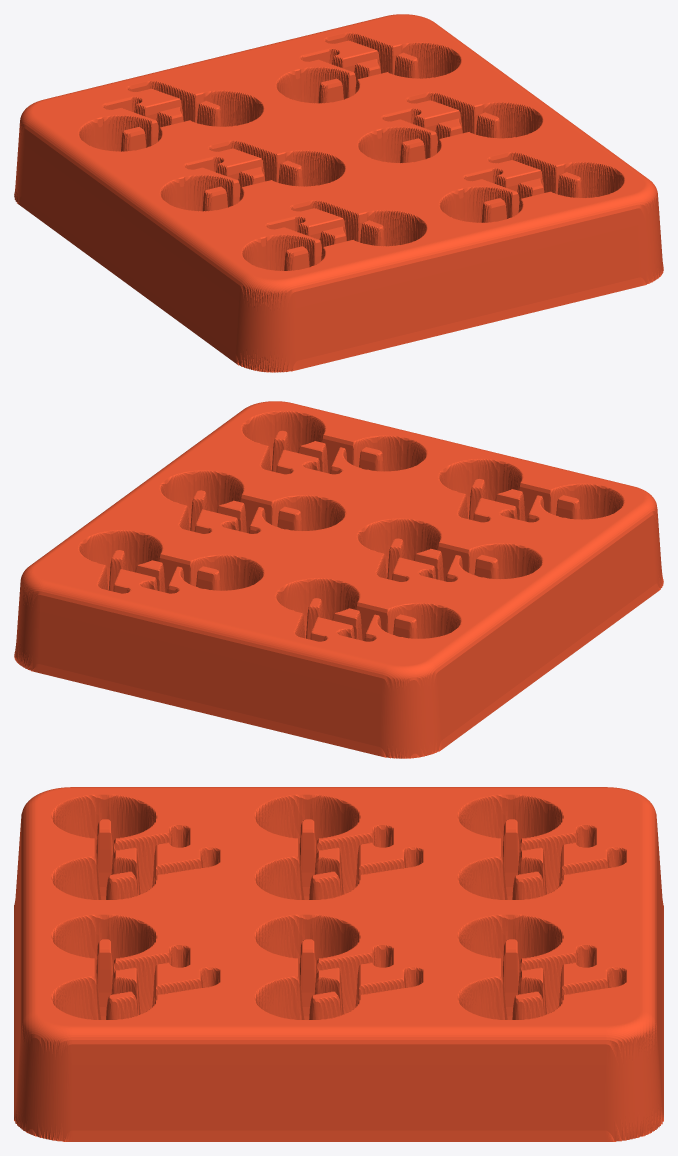
The model's file is mold.glb.
3 views of the same model, one above another, from view 1: azimuth 30°, elevation 25°; view 2: azimuth 150°, elevation 25°; view 3: azimuth 270°, elevation 25° (orthographic). The views are drawn at different scales.
Parts seen in each view (by area): view 1: geometry_0; view 2: geometry_0; view 3: geometry_0.
Boxes of the visible parts, x1,y1,x2,y2 form: geometry_0: (14, 14, 663, 372); geometry_0: (14, 401, 663, 758); geometry_0: (14, 787, 663, 1141).
Bounding box in the file's own units: 0.0947 × 0.0182 × 0.1012.
